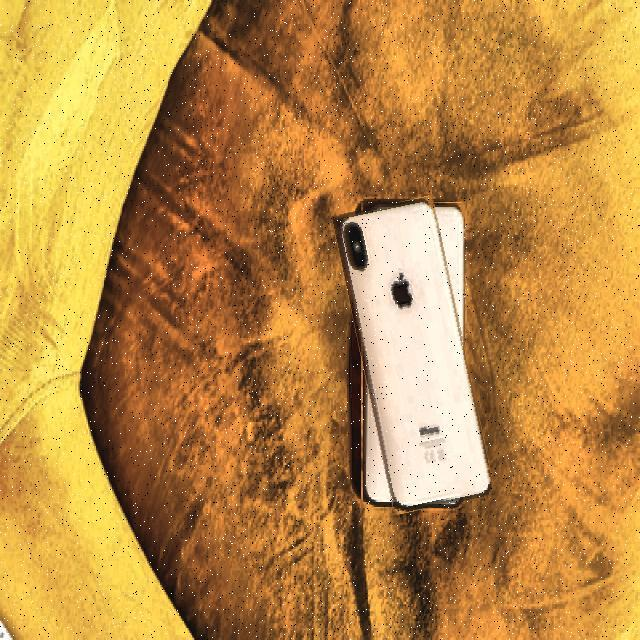Phone: (346, 198, 481, 512)
